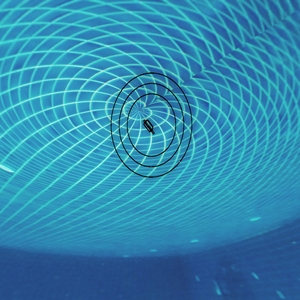circle: (103, 65, 193, 189)
submarine: (143, 120, 153, 131)
